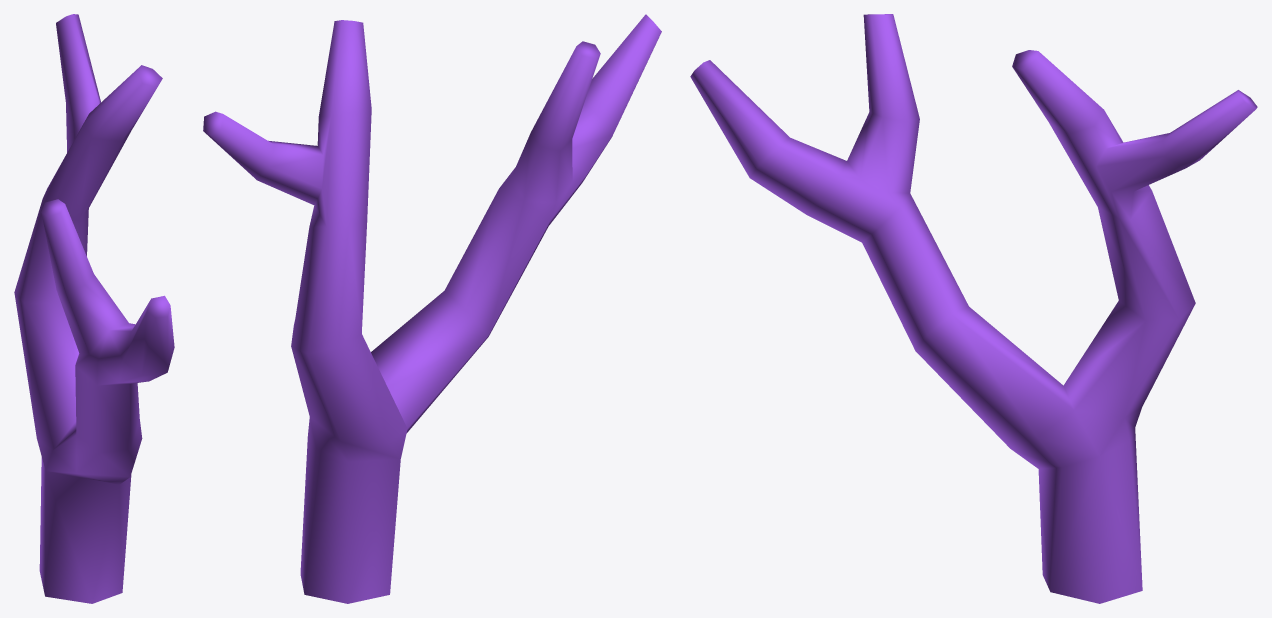
The model's file is Small Staghorn Coral.fbx.
The picture shows the model from 3 angles, left to right: view 1: azimuth 30°, elevation 25°; view 2: azimuth 150°, elevation 25°; view 3: azimuth 270°, elevation 25°; orthographic projection. The views are drawn at different scales.
Visible parts, largest first — view 1: Object012; view 2: Object012; view 3: Object012.
Boxes of the visible parts, x1=… form: Object012: x1=14, y1=14, x2=174, y2=603; Object012: x1=203, y1=14, x2=661, y2=603; Object012: x1=690, y1=14, x2=1257, y2=603.
Size of the model in its own units: 7.91 by 19.01 by 17.74.
